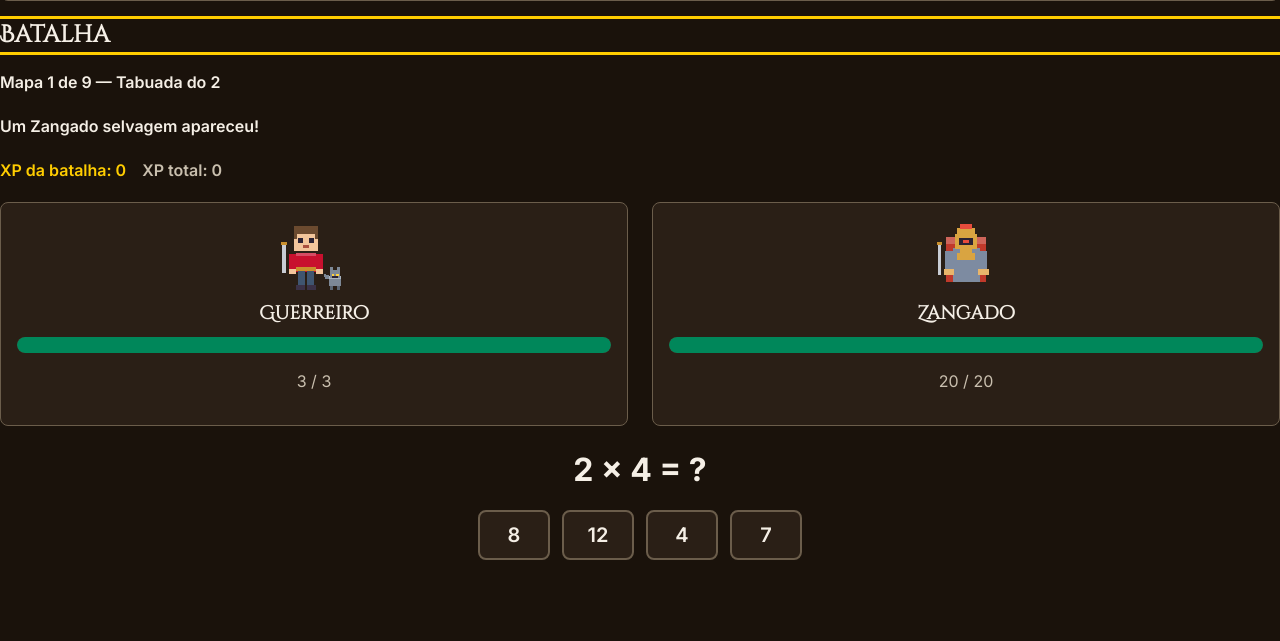
Test case: BattleScreen › vitória mostra o painel final com foco
The width and height of the screenshot is (1280, 641).
Click the button "8".
click(514, 535)  # box [478, 510, 550, 560]
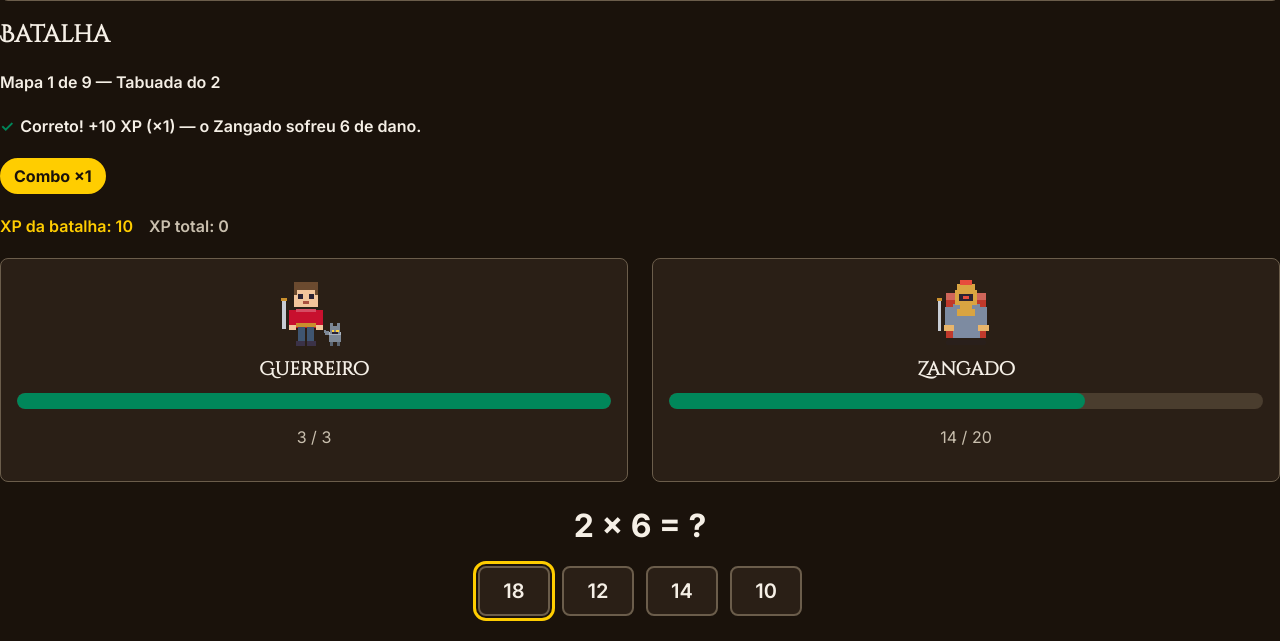
Click the button "12".
click(598, 591)  # box [562, 566, 634, 616]
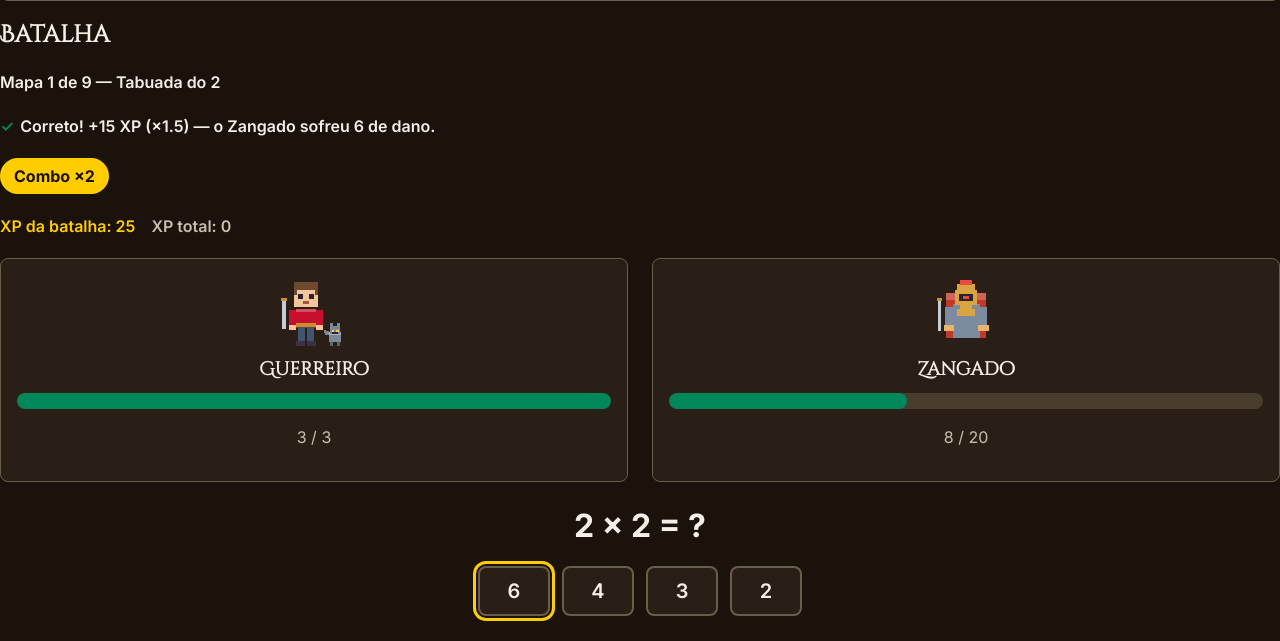
Click the button "4".
click(598, 591)  # box [562, 566, 634, 616]
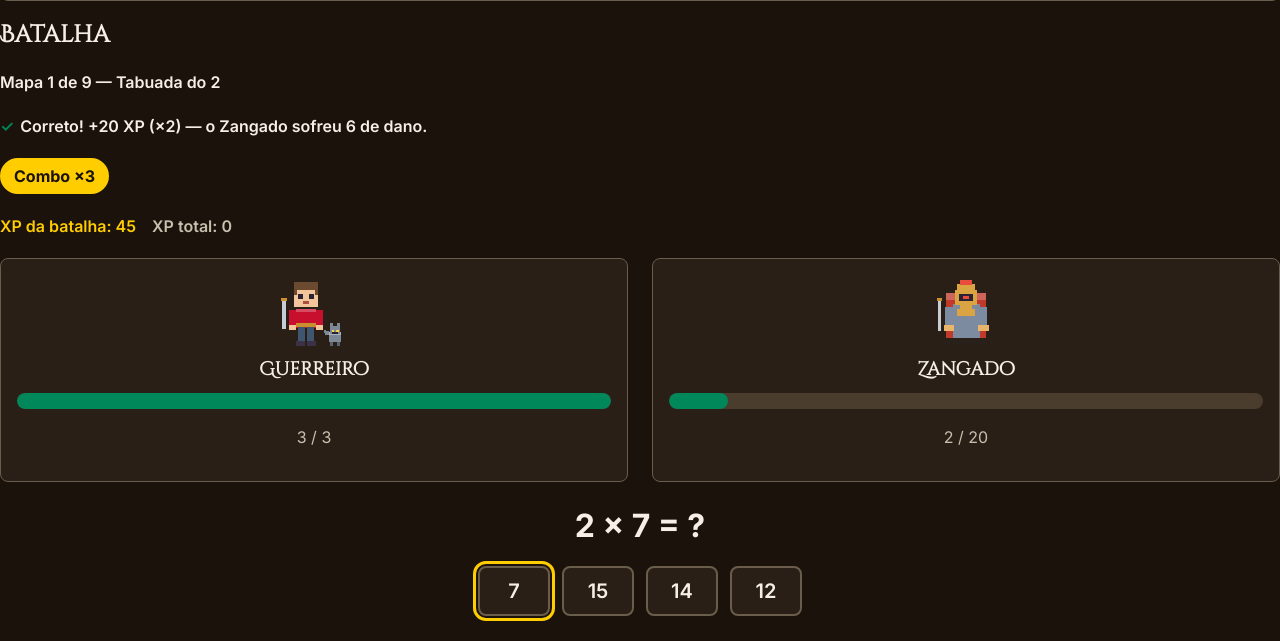
Click the button "14".
click(682, 591)  # box [646, 566, 718, 616]
(page scrolled)
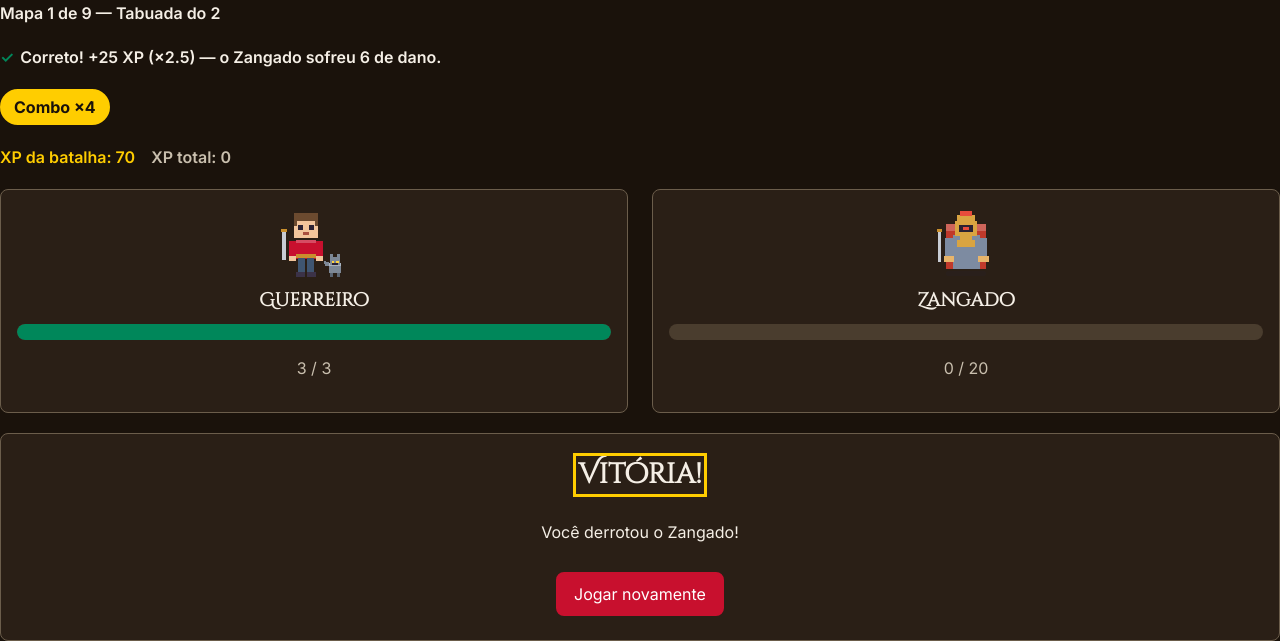
Expected: the heading "Vitória!" is shown, [578, 458, 702, 492]
Expected: the text "Você derrotou o Zangado!" is shown, [541, 520, 739, 544]
